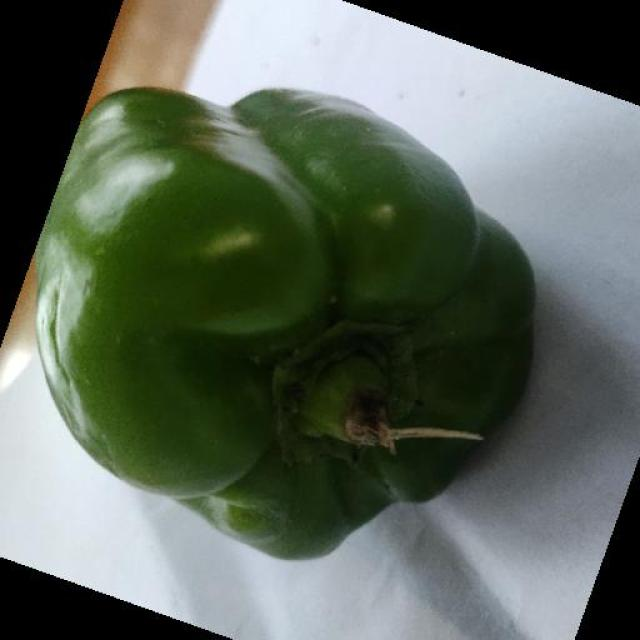Fresh_Capsicum: (66, 110, 510, 536)
